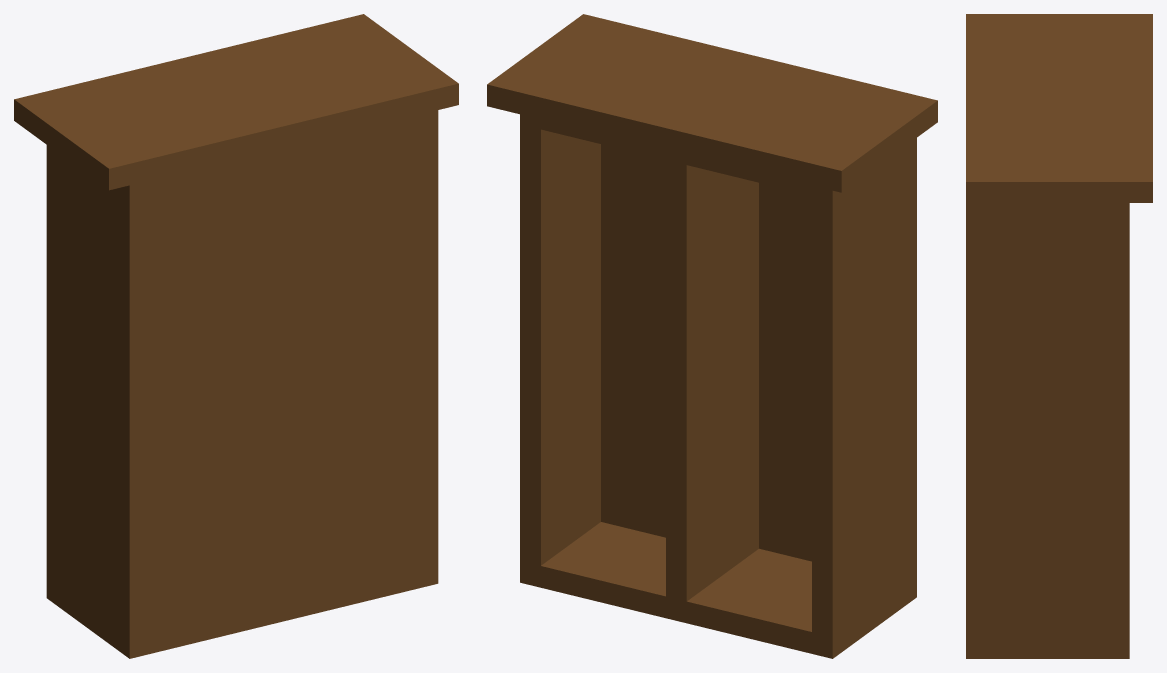
File: wardrobe.obj
The picture shows the model from 3 angles, left to right: view 1: azimuth 30°, elevation 25°; view 2: azimuth 150°, elevation 25°; view 3: azimuth 270°, elevation 25°; orthographic projection. The views are drawn at different scales.
Parts seen in each view (by area): view 1: wardrobe; view 2: wardrobe; view 3: wardrobe.
Boxes of the visible parts, <box> form: wardrobe: <box>14,14,458,658</box>; wardrobe: <box>487,14,937,658</box>; wardrobe: <box>966,14,1152,658</box>.
Size of the model in its own units: 17 by 23 by 8.
